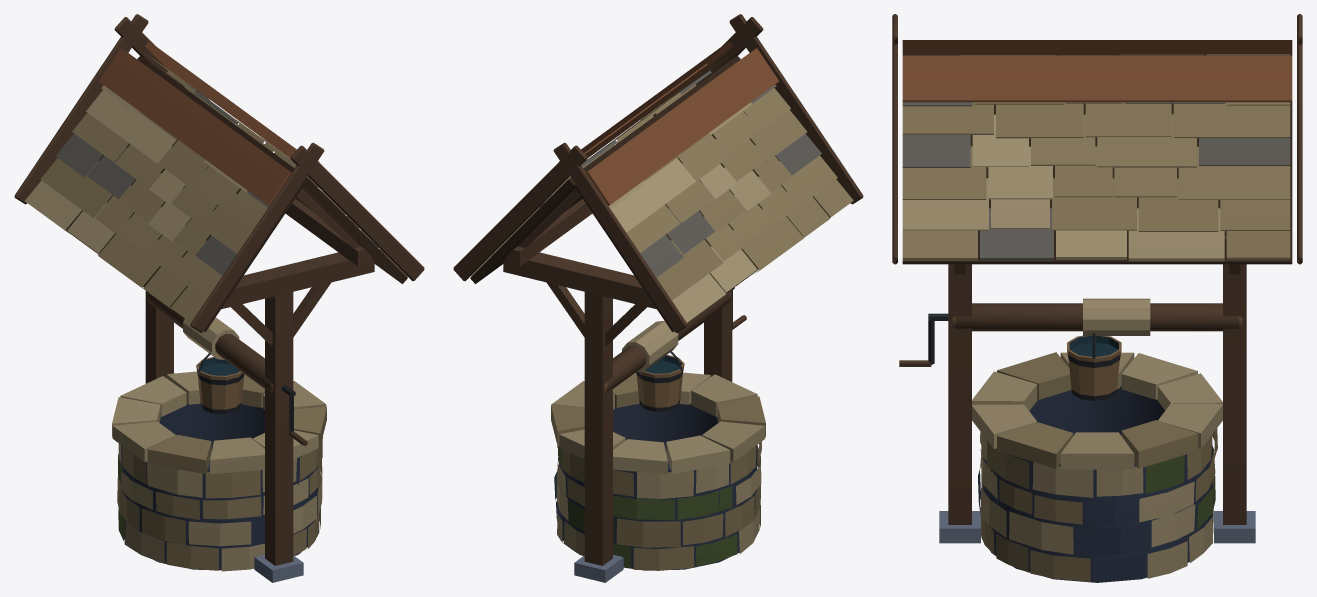
The model's file is well.glb.
3 views of the same model, side by side, from view 1: azimuth 30°, elevation 25°; view 2: azimuth 150°, elevation 25°; view 3: azimuth 270°, elevation 25° (orthographic). The views are drawn at different scales.
Visible parts, largest first — view 1: isl_well; view 2: isl_well; view 3: isl_well.
Part boxes in pixels (left/top/right/bottom): isl_well: left=14, top=14, right=424, bottom=582; isl_well: left=453, top=14, right=863, bottom=582; isl_well: left=892, top=14, right=1302, bottom=582.
Bounding box in the file's own units: 1.94 × 3.57 × 2.57.
